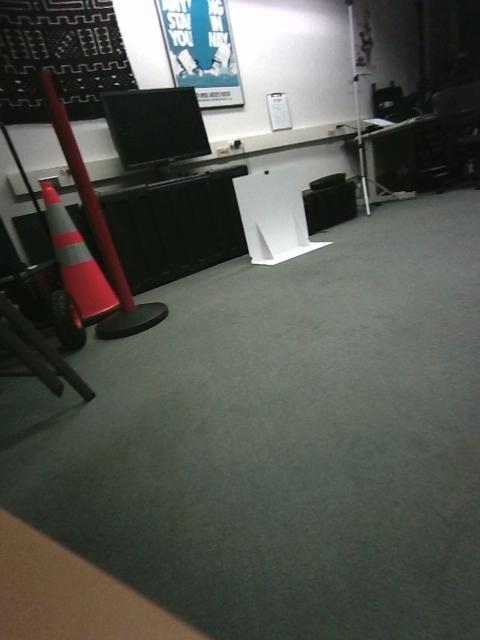block: (371, 306, 429, 361)
